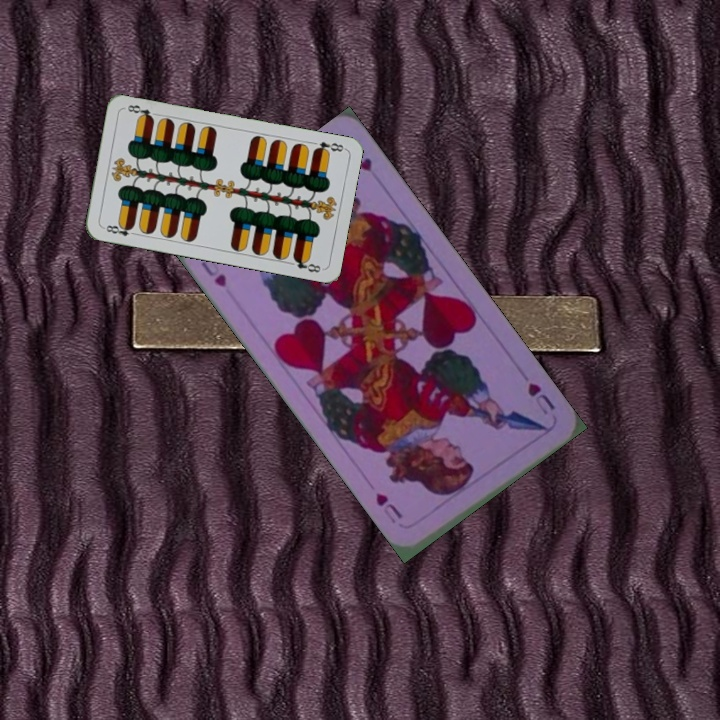E8: (99, 220, 139, 239), (309, 138, 347, 156)
HU: (523, 378, 558, 418), (196, 252, 229, 291)
